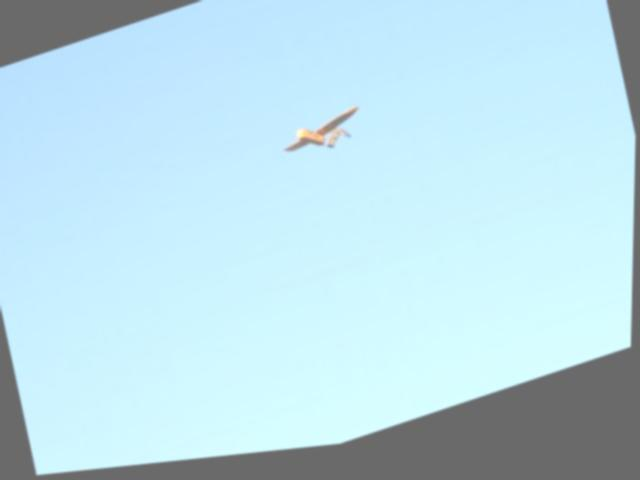iha: (275, 106, 373, 174)
